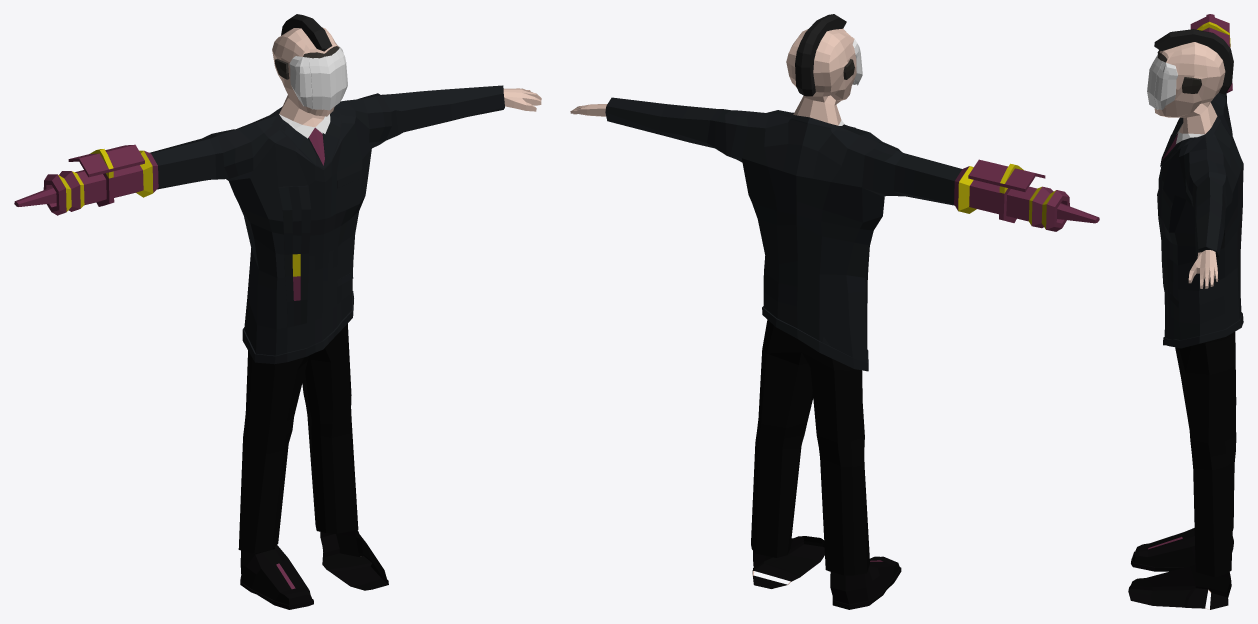
The model's file is Androide_synth_SINRig_v4.fbx.
3 views of the same model, side by side, from view 1: azimuth 30°, elevation 25°; view 2: azimuth 150°, elevation 25°; view 3: azimuth 270°, elevation 25° (orthographic). The views are drawn at different scales.
Visible parts, largest first — view 1: Android; view 2: Android; view 3: Android.
Part boxes in pixels (x1,y1,x2,y2): Android: [14, 14, 541, 609]; Android: [570, 14, 1099, 609]; Android: [1128, 14, 1243, 609].
Bounding box in the file's own units: 212 × 218 × 41.24.
